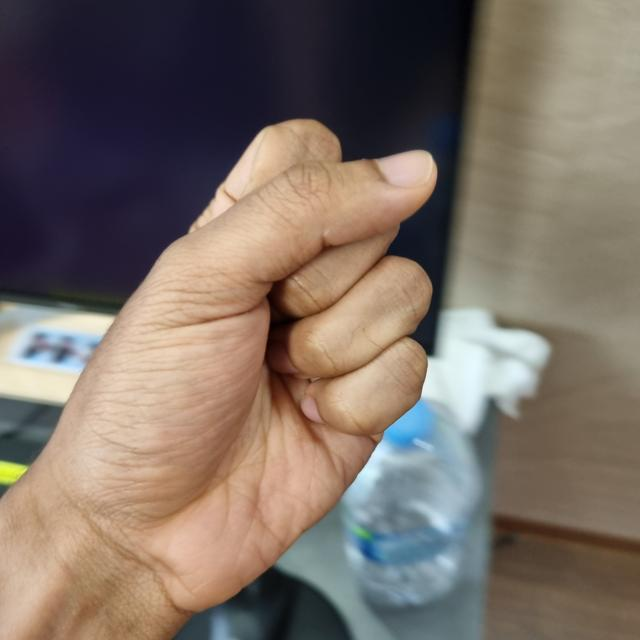Rock: (42, 167, 427, 611)
